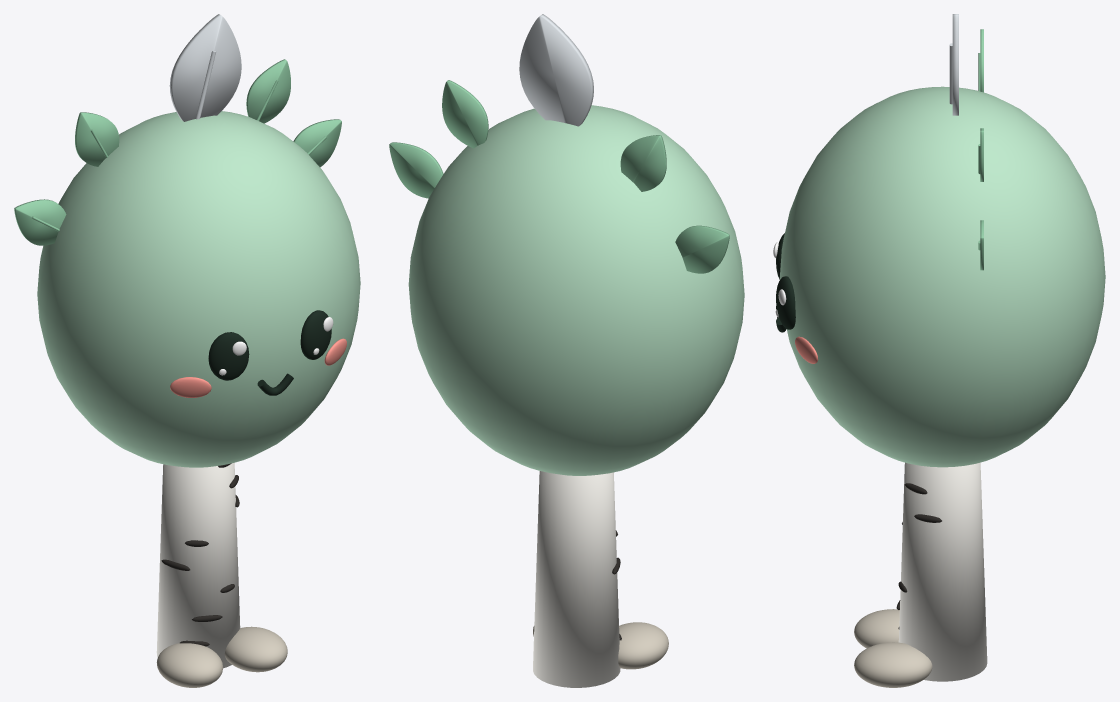
Rendered from sprig-3.glb.
3 views of the same model, side by side, from view 1: azimuth 30°, elevation 25°; view 2: azimuth 150°, elevation 25°; view 3: azimuth 270°, elevation 25° (orthographic). The views are drawn at different scales.
Parts seen in each view (by area): view 1: Canopy, Birch trunk, Silver leaf, Foot, Foot.001, Birch leaf.003, Birch leaf.002, Birch leaf, Eye, Birch leaf.001, Eye.001, Cheek; view 2: Canopy, Birch trunk, Silver leaf, Birch leaf.003, Birch leaf.002, Foot, Birch leaf.001, Birch leaf; view 3: Canopy, Birch trunk, Foot.001, Foot, Eye.001, Silver leaf.
Boxes of the visible parts, x1,y1,x2,y2 form: Canopy: [37, 111, 360, 467]; Birch trunk: [156, 463, 240, 668]; Silver leaf: [169, 14, 241, 121]; Foot: [156, 643, 222, 687]; Foot.001: [224, 626, 287, 672]; Birch leaf.003: [246, 59, 290, 123]; Birch leaf.002: [75, 112, 119, 166]; Birch leaf: [14, 199, 66, 245]; Eye: [208, 332, 249, 380]; Birch leaf.001: [293, 119, 341, 167]; Eye.001: [300, 310, 331, 359]; Cheek: [170, 377, 211, 397]; Canopy: [408, 105, 744, 475]; Birch trunk: [533, 471, 620, 687]; Silver leaf: [519, 14, 593, 126]; Birch leaf.003: [442, 80, 488, 148]; Birch leaf.002: [620, 135, 666, 191]; Foot: [618, 622, 668, 669]; Birch leaf.001: [389, 142, 443, 198]; Birch leaf: [675, 225, 729, 273]; Canopy: [780, 86, 1105, 467]; Birch trunk: [898, 462, 987, 681]; Foot.001: [854, 642, 932, 687]; Foot: [854, 609, 899, 648]; Eye.001: [776, 276, 795, 329]; Silver leaf: [952, 14, 958, 115].
Bounding box in the file's own units: 1.51 × 2.8 × 1.26.
